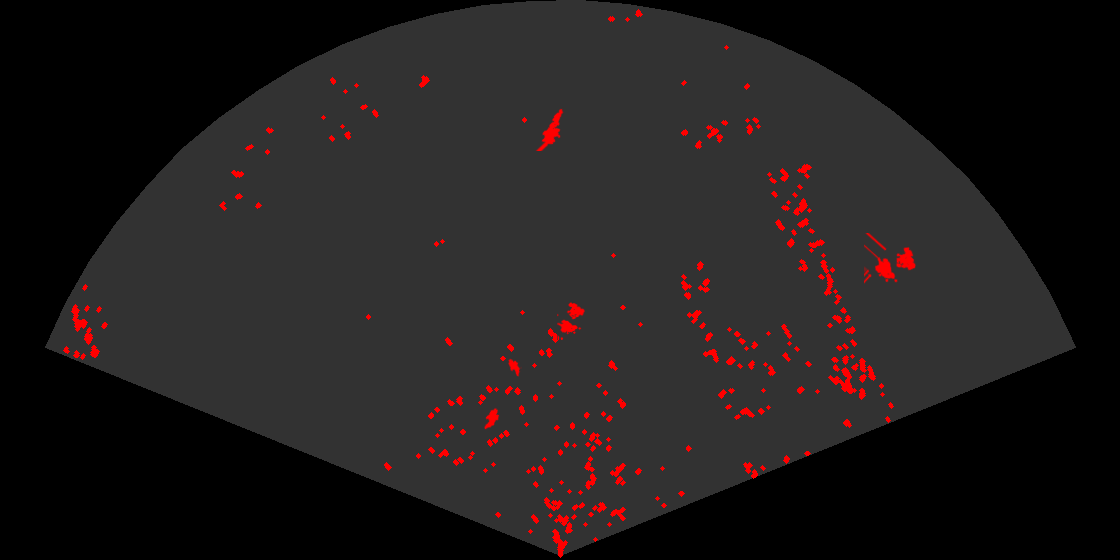AUV: (483, 406, 501, 431), (507, 357, 522, 378)
cage: (864, 233, 917, 286), (557, 301, 586, 340)
frogman: (534, 107, 565, 151)
